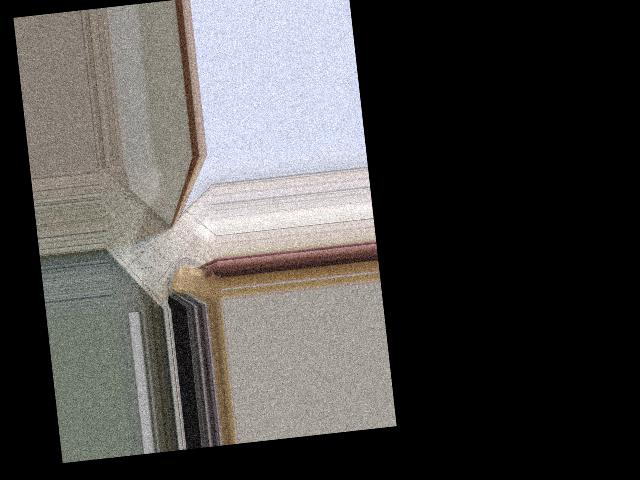cheese: (165, 254, 224, 309)
